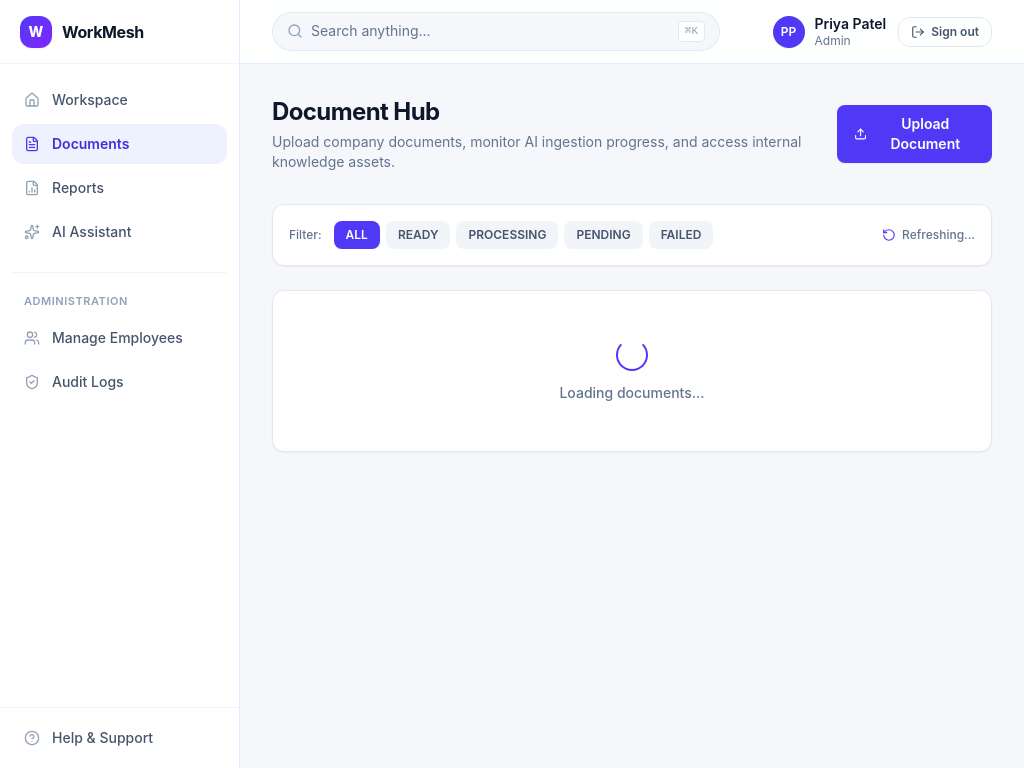
DocumentManagementPage › opens and closes the upload modal
Click the button "Upload Document". click: (915, 134)
box: [837,105,992,163]
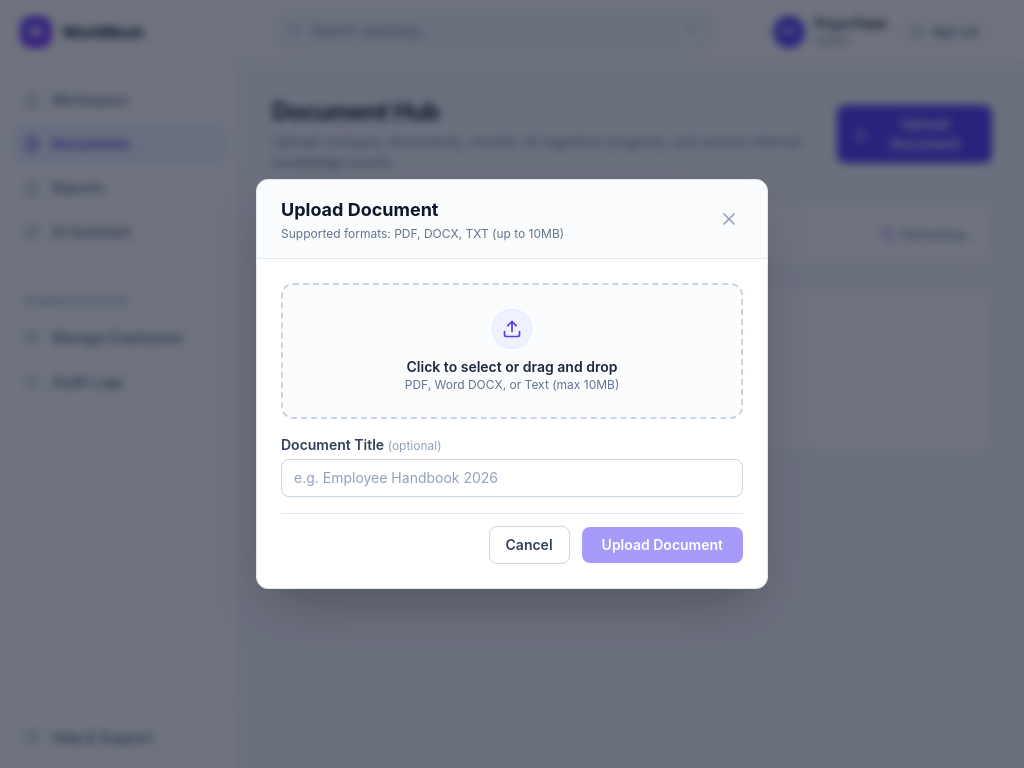
Check: the dialog "Upload Document" is shown, box [256,179,768,589]
Click the button named "Close upload modal". click: (729, 219)
box: [715,205,743,233]
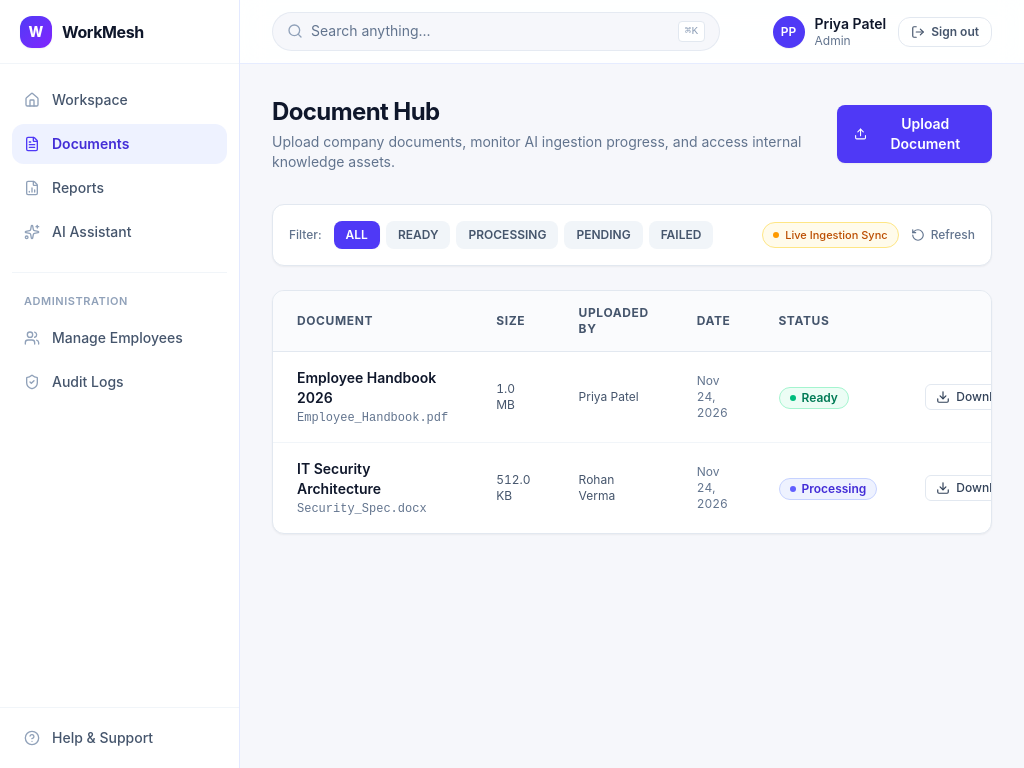
Check: the dialog is gone
